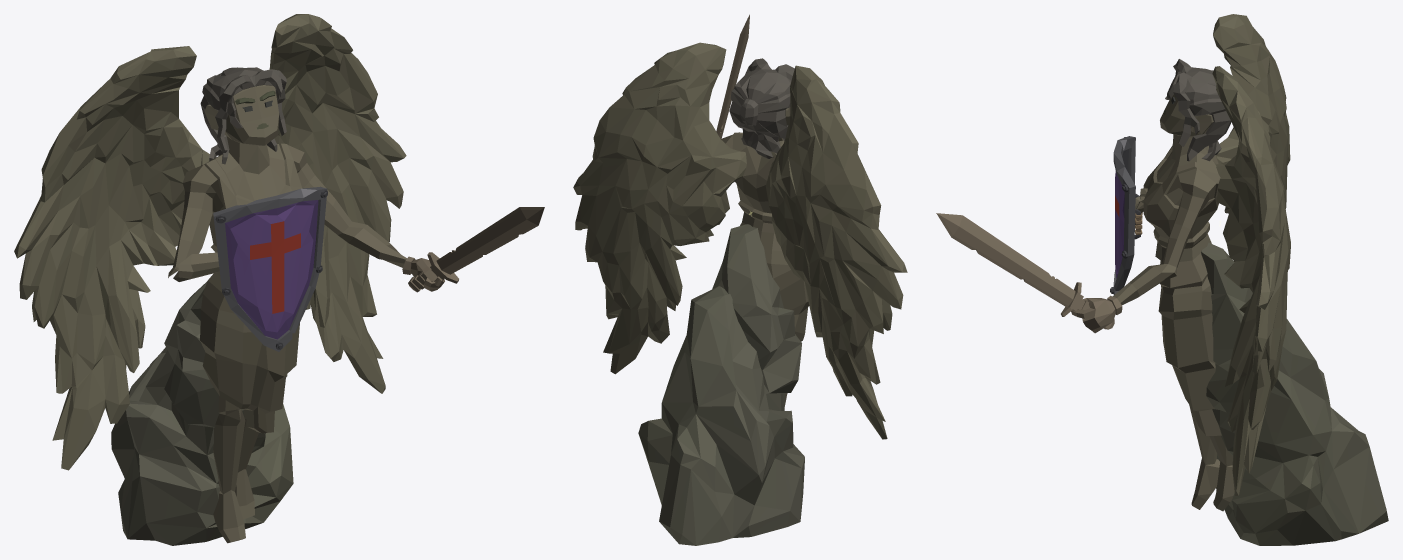
File: MOBILE3.glb
The picture shows the model from 3 angles, left to right: view 1: azimuth 30°, elevation 25°; view 2: azimuth 150°, elevation 25°; view 3: azimuth 270°, elevation 25°; orthographic projection. The views are drawn at different scales.
Parts seen in each view (by area): view 1: SM_Prop_Statue_Angel_01, SM_Wep_Shield_01, SM_Prop_Statue_Angel_01.001; view 2: SM_Prop_Statue_Angel_01; view 3: SM_Prop_Statue_Angel_01, SM_Wep_Shield_01.
Part boxes in pixels (<box>): SM_Prop_Statue_Angel_01: <box>14,14,544,545</box>; SM_Wep_Shield_01: <box>213,186,327,351</box>; SM_Prop_Statue_Angel_01.001: <box>173,252,219,281</box>; SM_Prop_Statue_Angel_01: <box>573,14,907,545</box>; SM_Prop_Statue_Angel_01: <box>936,14,1388,545</box>; SM_Wep_Shield_01: <box>1110,136,1142,295</box>.
Size of the model in its own units: 0.952 by 1.19 by 1.02.
Materials: 4 (4 with a texture image).
